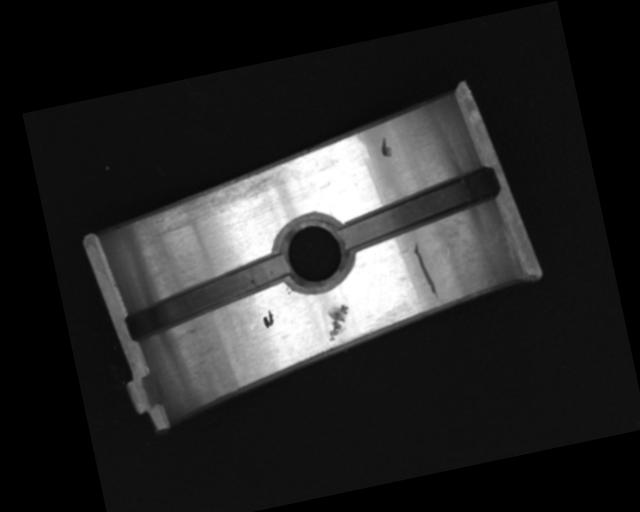blot: (259, 307, 277, 330)
bruise: (322, 303, 354, 342), (378, 136, 392, 158)
gap: (119, 251, 297, 341), (334, 166, 504, 254)
hole: (271, 208, 357, 295)
nick: (412, 240, 440, 304)
scratch: (147, 161, 296, 236)
